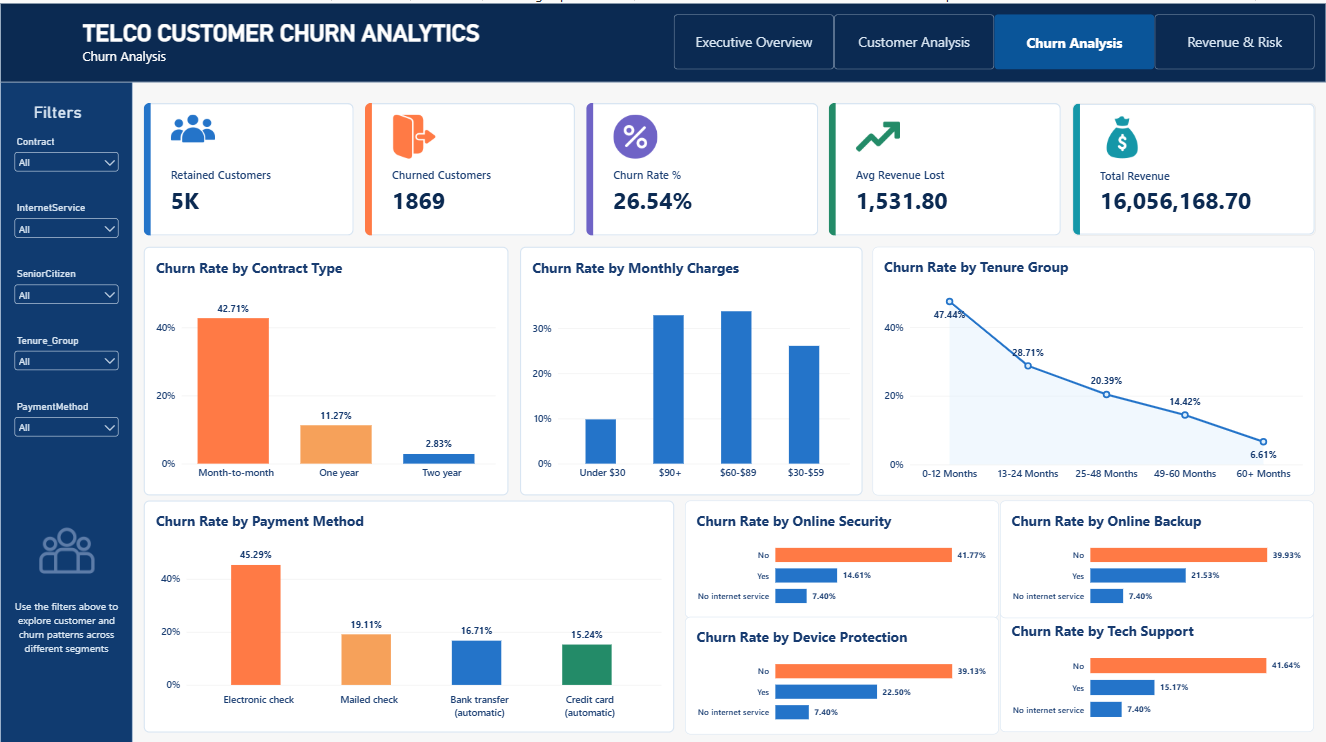

What the dashboard file says about the page in this screenshot:
{"tool":"powerbi","page":{"name":"Churn Analysis","canvas":[1920,1080],"ordinal":2},"visuals":[{"type":"shape","box":[0,112,192,968],"z":0},{"type":"shape","box":[0,0,1920,115],"z":1000},{"type":"textbox","title":"TELCO CUSTOMER CHURN ANALYTICS","box":[120,24,576,72],"z":2000},{"type":"pageNavigator","box":[976,16,928,80],"z":3000},{"type":"clusteredColumnChart","title":"Churn Rate by Payment Method","fields":{"Category":["Telco_Churn.PaymentMethod"],"Y":["Measure.Churn Rate %"]},"box":[208,720,768,336],"z":4000},{"type":"lineChart","title":"Churn Rate by Tenure Group","fields":{"Category":["Telco_Churn.Tenure_Group"],"Y":["Measure.Churn Rate %"]},"box":[1264,352,640,360],"z":5000},{"type":"clusteredColumnChart","title":"Churn Rate by Contract Type","fields":{"Category":["Telco_Churn.Contract"],"Y":["Measure.Churn Rate %"]},"box":[208,352,528,360],"z":6000},{"type":"clusteredColumnChart","title":"Churn Rate by Monthly Charges","fields":{"Category":["Telco_Churn.Monthly_Charges_Group"],"Y":["Measure.Churn Rate %"]},"box":[752,352,496,360],"z":7000},{"type":"slicer","fields":{"Values":["Telco_Churn.Contract"]},"box":[16,192,160,64],"z":8000},{"type":"slicer","fields":{"Values":["Telco_Churn.PaymentMethod"]},"box":[16,576,160,80],"z":9000},{"type":"slicer","fields":{"Values":["Telco_Churn.InternetService"]},"box":[16,288,160,64],"z":10000},{"type":"slicer","fields":{"Values":["Telco_Churn.SeniorCitizen"]},"box":[16,384,160,64],"z":11000},{"type":"slicer","fields":{"Values":["Telco_Churn.Tenure_Group"]},"box":[16,480,160,64],"z":12000},{"type":"textbox","box":[16,864,160,96],"z":13000},{"type":"image","box":[48,752,96,80],"z":14000},{"type":"textbox","title":"Filters","box":[48,144,96,32],"z":15000},{"type":"cardVisual","fields":{"Data":["Measure.Churn Rate %"]},"box":[848,144,336,192],"z":16000},{"type":"cardVisual","fields":{"Data":["Measure.Avg Revenue Lost"]},"box":[1200,144,336,192],"z":17000},{"type":"cardVisual","fields":{"Data":["Measure.Total Revenue"]},"box":[1552,144,352,192],"z":18000},{"type":"cardVisual","fields":{"Data":["Measure.Churned Customers"]},"box":[528,144,304,192],"z":19000},{"type":"cardVisual","fields":{"Data":["Measure.Retained Customers"]},"box":[208,144,304,192],"z":20000},{"type":"clusteredBarChart","title":"Churn Rate by Online Security","fields":{"Category":["Telco_Churn.OnlineSecurity"],"Y":["Measure.Churn Rate %"]},"box":[992,720,454,170],"z":21000},{"type":"clusteredBarChart","title":"Churn Rate by Tech Support","fields":{"Category":["Telco_Churn.TechSupport"],"Y":["Measure.Churn Rate %"]},"box":[1448,880,454,176],"z":21001},{"type":"clusteredBarChart","title":"Churn Rate by Device Protection","fields":{"Category":["Telco_Churn.DeviceProtection"],"Y":["Measure.Churn Rate %"]},"box":[992,888,454,170],"z":21002},{"type":"clusteredBarChart","title":"Churn Rate by Online Backup","fields":{"Category":["Telco_Churn.OnlineBackup"],"Y":["Measure.Churn Rate %"]},"box":[1448,720,454,170],"z":21003}]}

Visuals, with their boxes in screenshot pixels (x1, y1, x2, y2), scaled from the page's 1920x1080 canvas onto the 1326x742 screenshot:
shape: (0,77,133,741)
shape: (0,0,1325,79)
"TELCO CUSTOMER CHURN ANALYTICS" textbox: (83,16,481,66)
pageNavigator: (674,11,1315,66)
"Churn Rate by Payment Method" clusteredColumnChart: (144,495,674,726)
"Churn Rate by Tenure Group" lineChart: (873,242,1315,489)
"Churn Rate by Contract Type" clusteredColumnChart: (144,242,508,489)
"Churn Rate by Monthly Charges" clusteredColumnChart: (519,242,862,489)
slicer - Telco_Churn.Contract: (11,132,122,176)
slicer - Telco_Churn.PaymentMethod: (11,396,122,451)
slicer - Telco_Churn.InternetService: (11,198,122,242)
slicer - Telco_Churn.SeniorCitizen: (11,264,122,308)
slicer - Telco_Churn.Tenure_Group: (11,330,122,374)
textbox: (11,594,122,660)
image: (33,517,99,572)
"Filters" textbox: (33,99,99,121)
cardVisual - Measure.Churn Rate %: (586,99,818,231)
cardVisual - Measure.Avg Revenue Lost: (829,99,1061,231)
cardVisual - Measure.Total Revenue: (1072,99,1315,231)
cardVisual - Measure.Churned Customers: (365,99,575,231)
cardVisual - Measure.Retained Customers: (144,99,354,231)
"Churn Rate by Online Security" clusteredBarChart: (685,495,999,611)
"Churn Rate by Tech Support" clusteredBarChart: (1000,605,1314,726)
"Churn Rate by Device Protection" clusteredBarChart: (685,610,999,727)
"Churn Rate by Online Backup" clusteredBarChart: (1000,495,1314,611)
